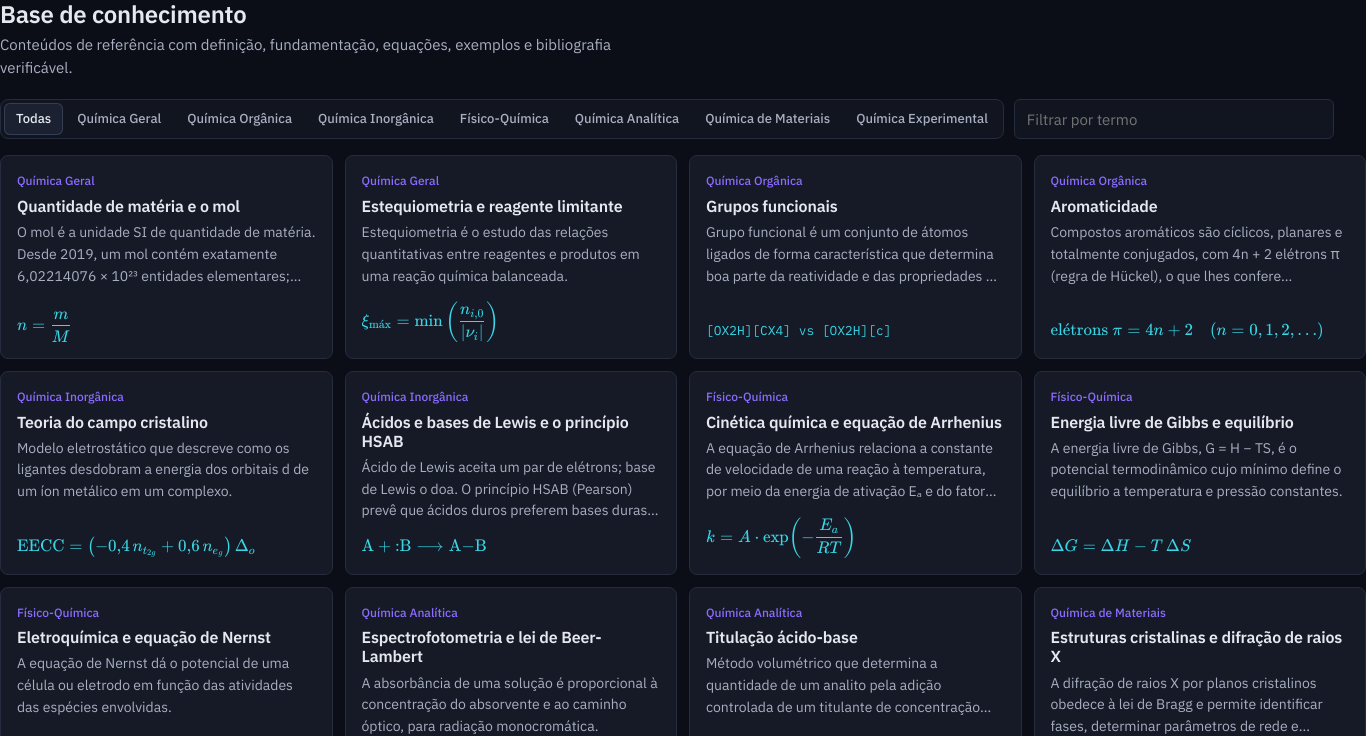
base de conhecimento › lista tópicos e filtra por termo
expect the heading "Eletroquímica e equação de Nernst" is shown: met, box [17,628,316,647]
Type "Bragg" into the field named "Filtrar tópicos" at [1174, 119], box [1014,99,1334,139]
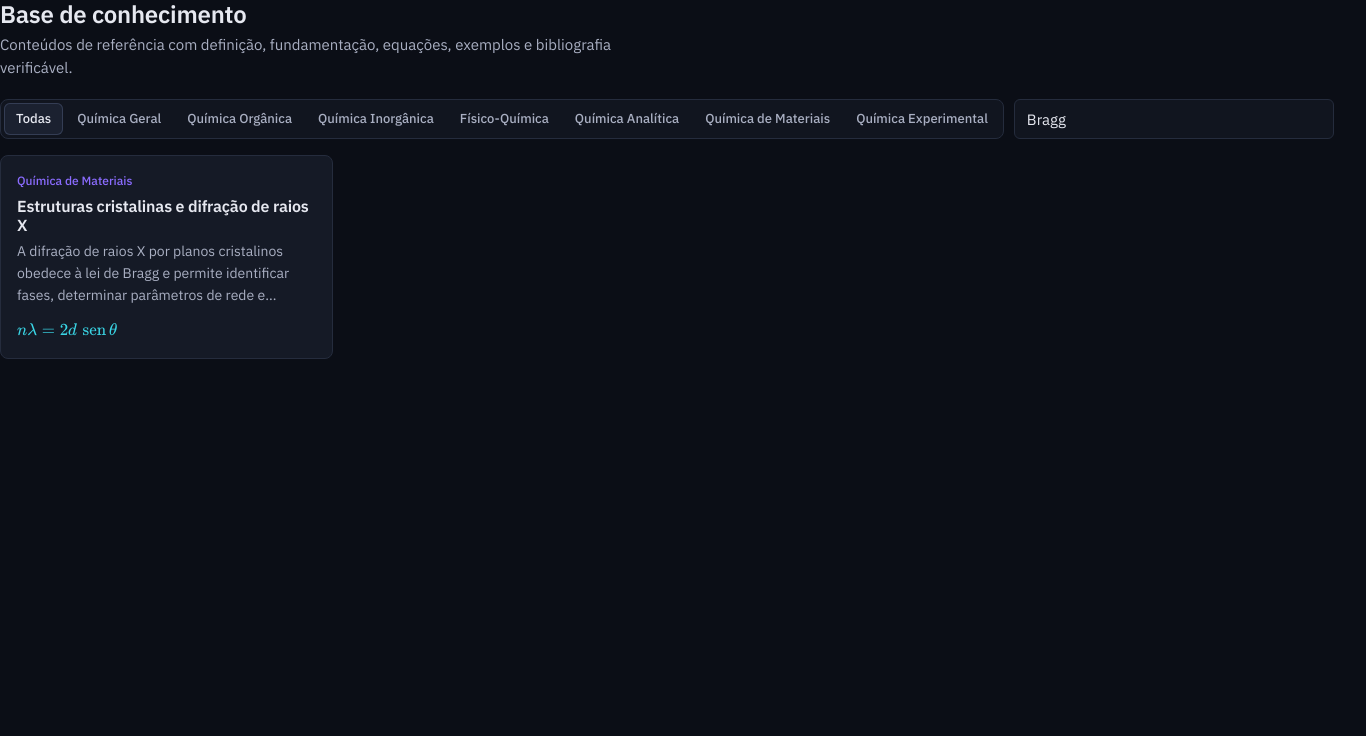
expect the heading "Estruturas cristalinas e difração de raios X" is shown: met, box [17,197,316,235]
expect the link "equação de Nernst" is gone: met
